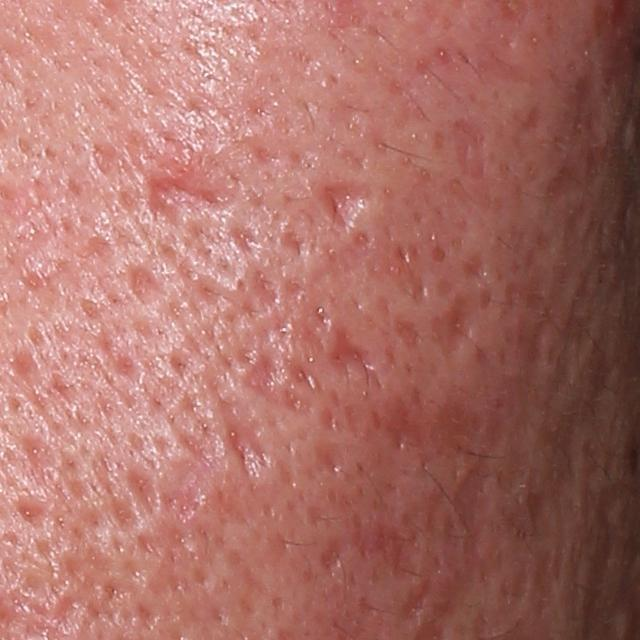atrophic_scar: (430, 447, 499, 619), (189, 242, 290, 325), (143, 160, 235, 230), (218, 389, 283, 484), (358, 514, 423, 587), (236, 342, 289, 410), (428, 286, 473, 364), (308, 181, 371, 233), (325, 319, 378, 378), (449, 114, 492, 183), (386, 396, 434, 456), (129, 467, 163, 521), (126, 262, 164, 308), (314, 534, 352, 580), (313, 438, 352, 481), (109, 491, 139, 535), (87, 140, 115, 184), (17, 497, 53, 527)
